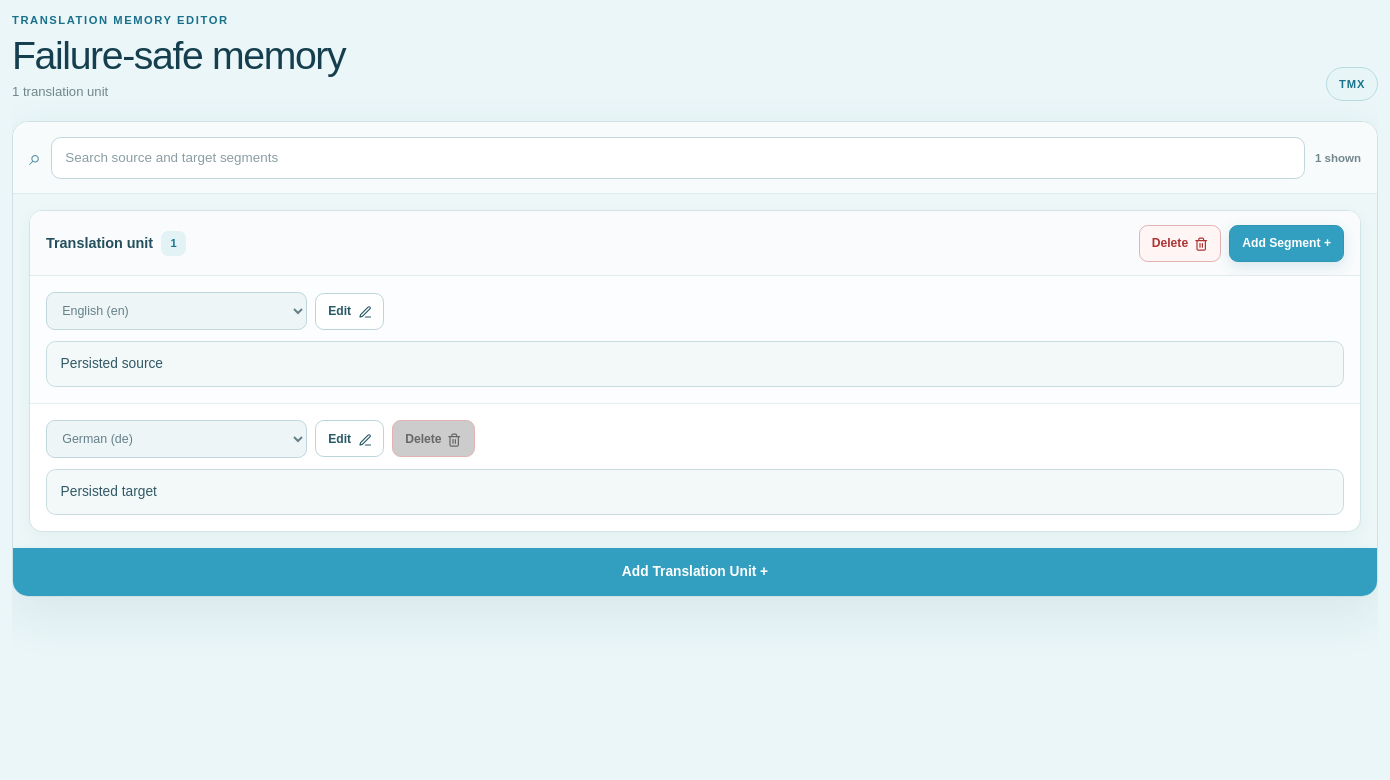
Test: real CAT application route › rolls back a failed TM edit and keeps the editor open
Click the 1st button "Edit". click: [350, 311]
box: [315,293,384,330]
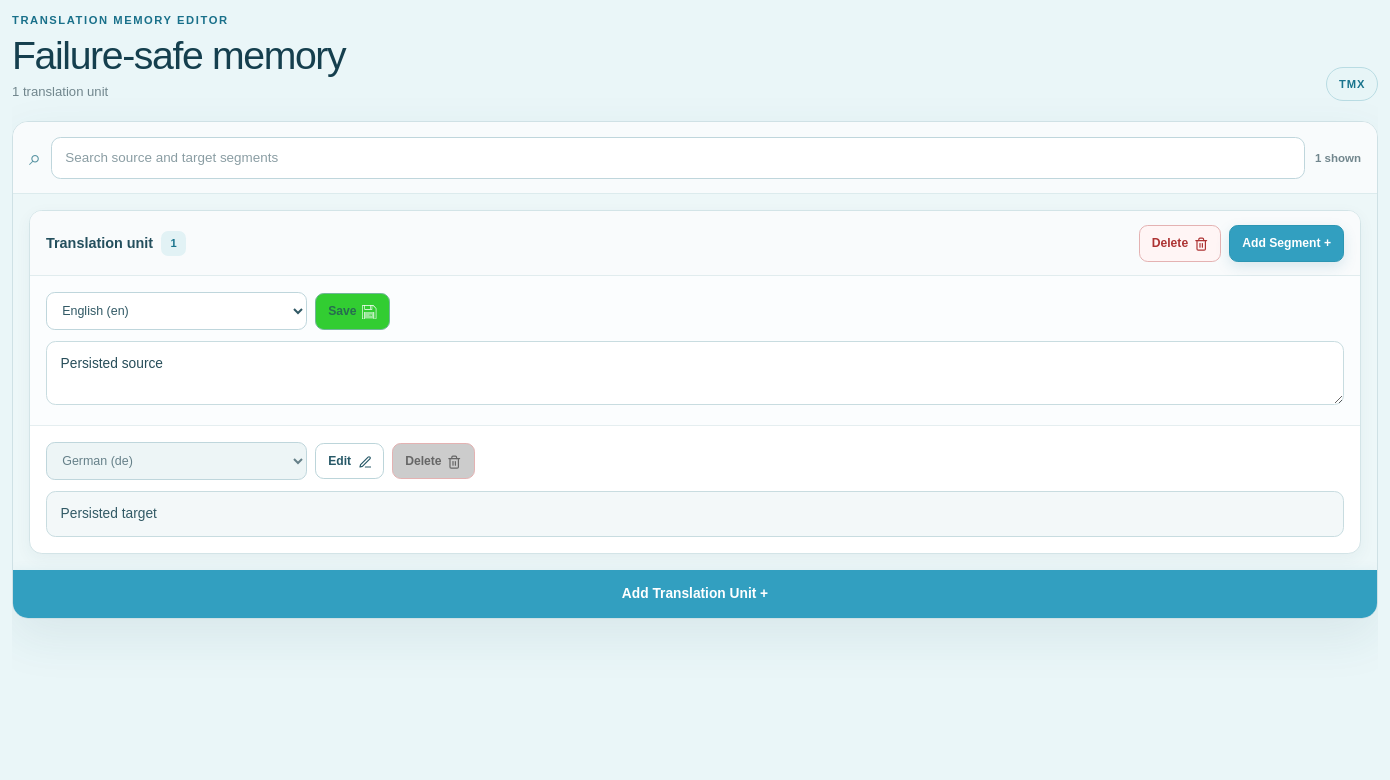
Replace the text in the text box with "Lost edit". click: [695, 373]
box: [46,341,1344,405]
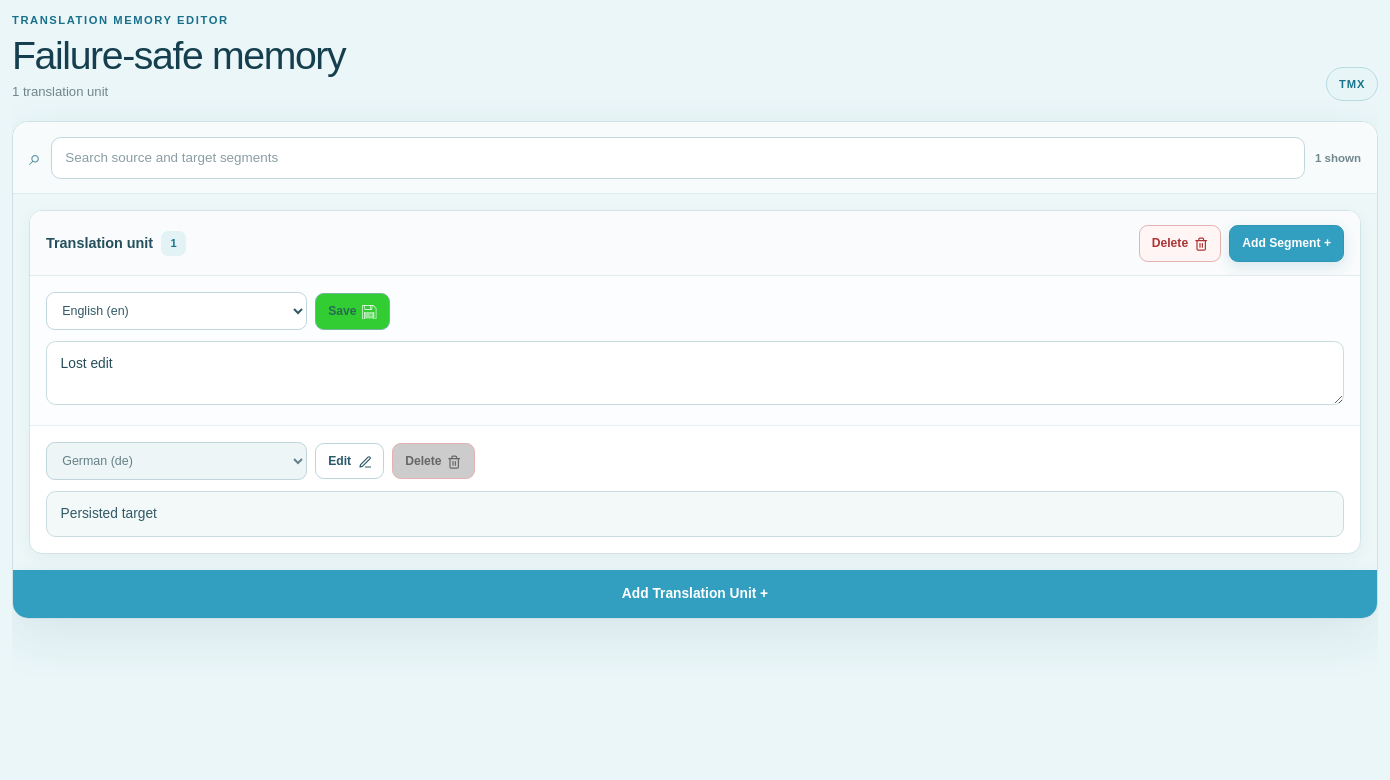
Click the button "Save". click: [352, 311]
box: [315,293,390,330]
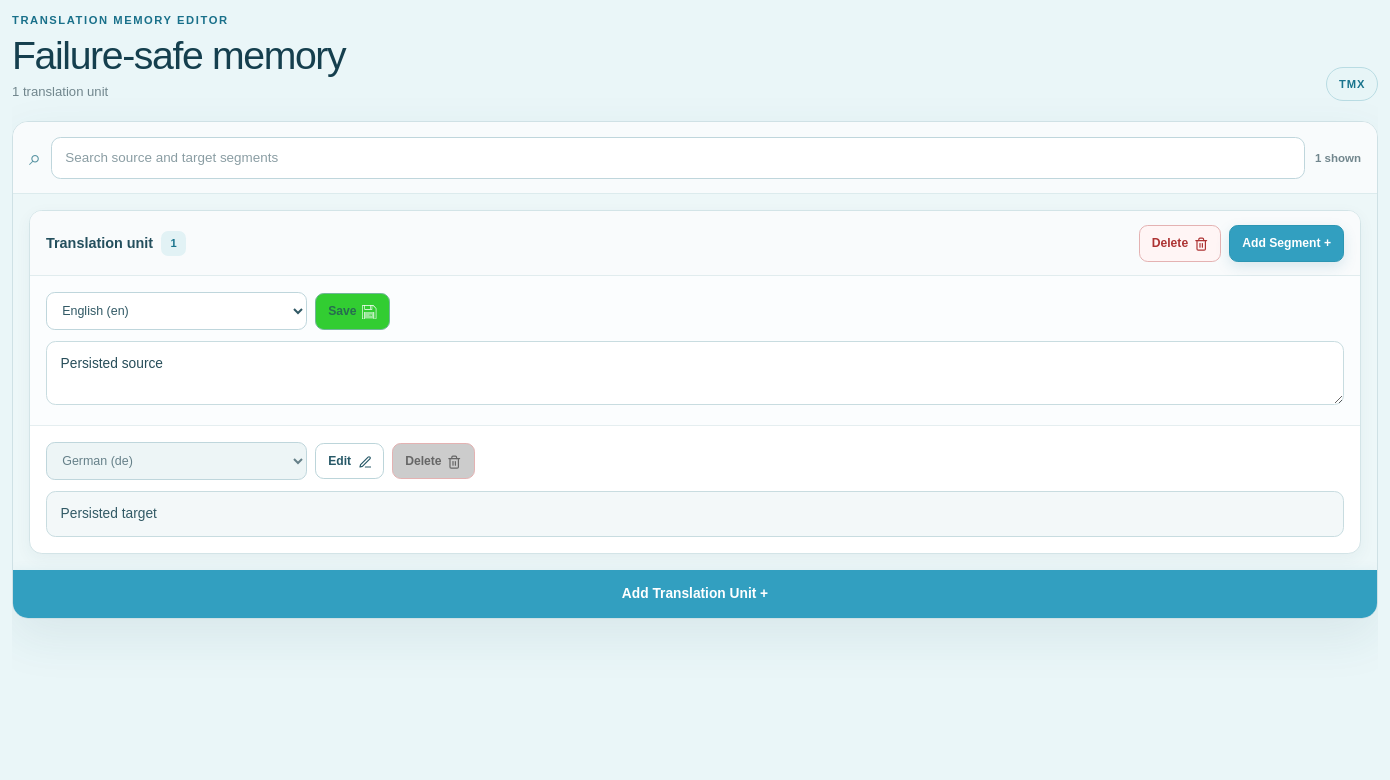
Now the text box holds "Persisted source", box [46,341,1344,405]
